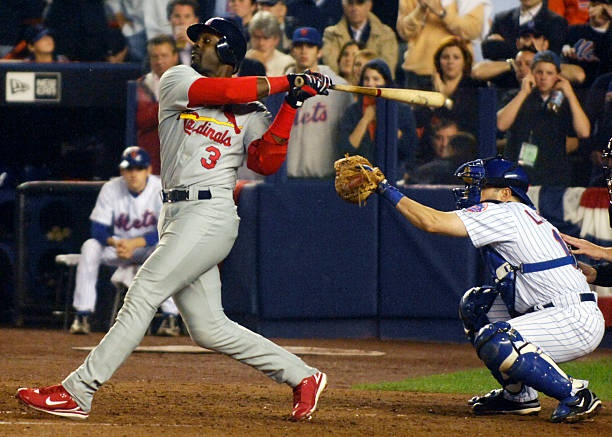bita: (327, 76, 447, 107)
